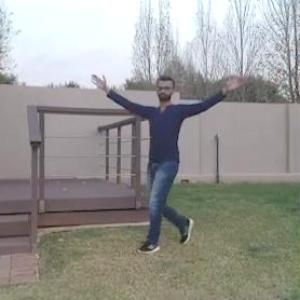takeoff: (93, 68, 247, 258)
